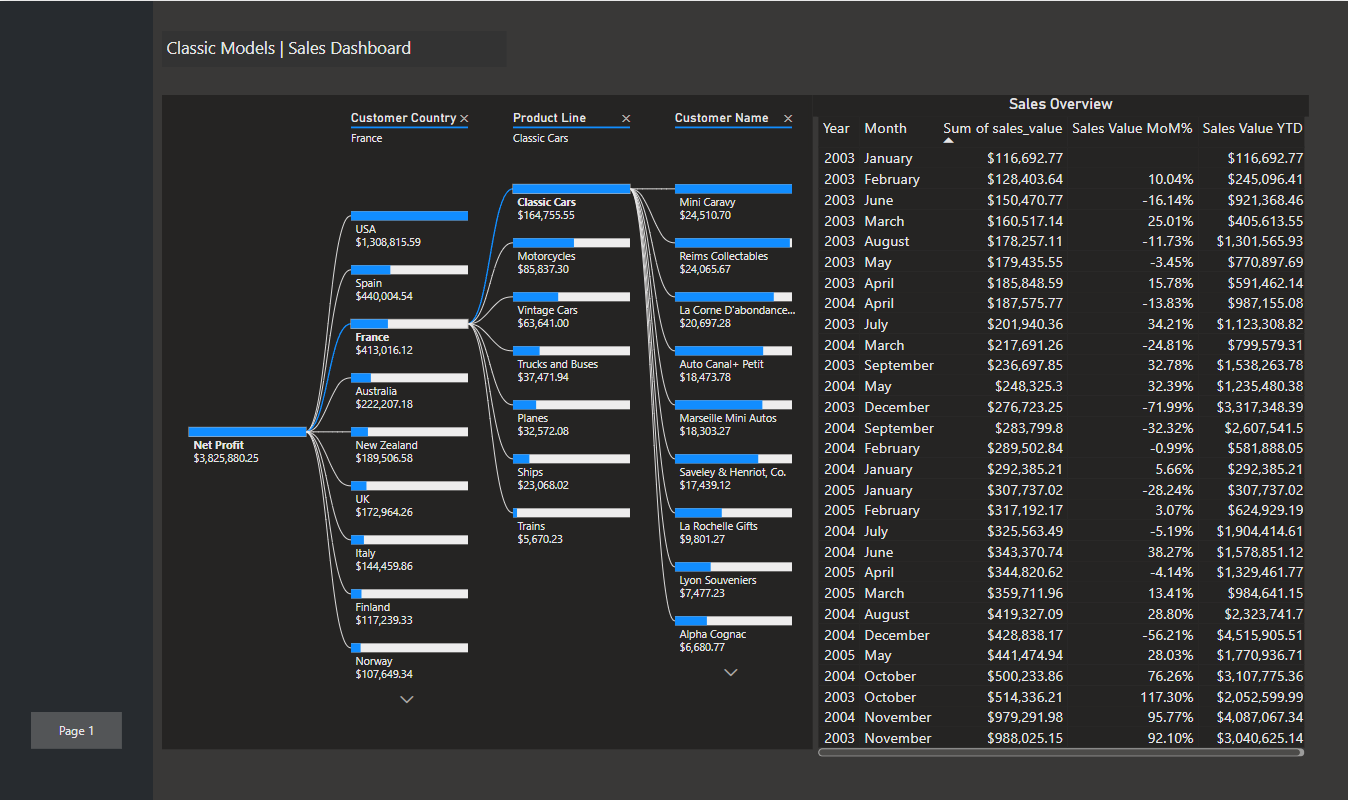

What the dashboard file says about the page in this screenshot:
{"tool":"powerbi","page":{"name":"Sales Overview - Page 2","canvas":[1500,900],"ordinal":1},"visuals":[{"type":"shape","box":[0,0,170,899.8],"z":0},{"type":"decompositionTreeVisual","fields":{"Analyze":["classicmodels sales_data_for_power_bi.Net Profit"],"ExplainBy":["classicmodels sales_data_for_power_bi.customer_country","classicmodels sales_data_for_power_bi.productLine","classicmodels sales_data_for_power_bi.customerName"]},"box":[180.4,104.7,722.9,726.5],"z":1000},{"type":"tableEx","title":"Sales Overview","fields":{"Values":["classicmodels sales_data_for_power_bi.orderdate.Variation.Date Hierarchy.Year","classicmodels sales_data_for_power_bi.orderdate.Variation.Date Hierarchy.Month","Sum(classicmodels sales_data_for_power_bi.sales_value)","classicmodels sales_data_for_power_bi.sales_value MoM%","classicmodels sales_data_for_power_bi.sales_value YTD"]},"box":[903.4,104.7,550.9,739.8],"z":2000},{"type":"textbox","box":[180.4,33.7,382.5,39.7],"z":3000},{"type":"actionButton","box":[34.9,790.3,101,40.9],"z":3001}]}

Visuals, with their boxes on the page's 1500x900 design canvas (x1, y1, x2, y2). These are canvas units, not pixel positions in the 1348x800 screenshot, which may show the page scaled, cropped or inside an application window:
shape: 0,0,170,900
decompositionTreeVisual - classicmodels sales_data_for_power_bi.Net Profit x classicmodels sales_data_for_power_bi.customer_country: 180,105,903,831
"Sales Overview" tableEx: 903,105,1454,844
textbox: 180,34,563,73
actionButton: 35,790,136,831
